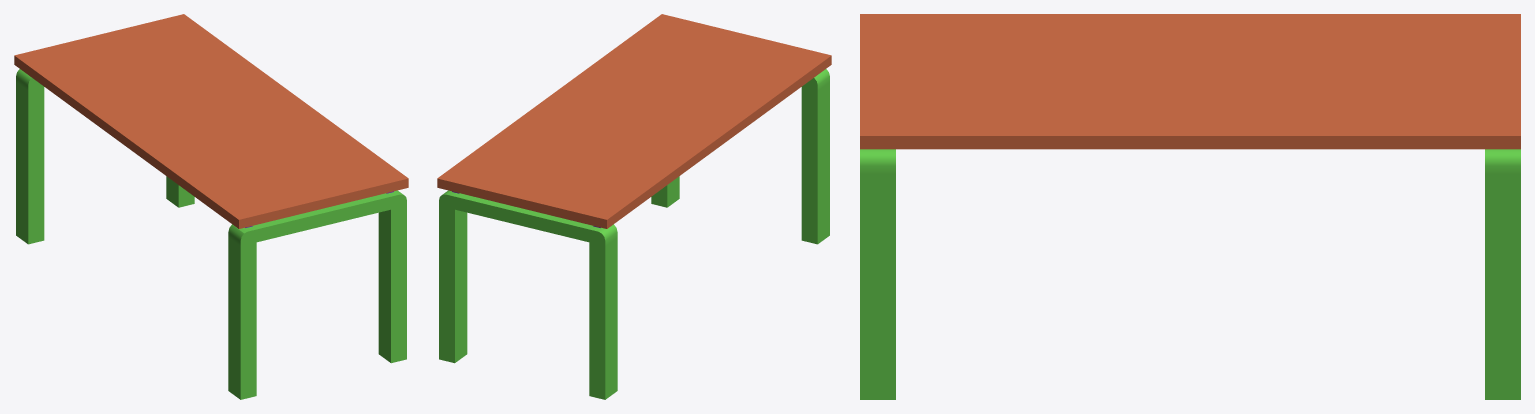
The model's file is TableA.fbx.
3 views of the same model, side by side, from view 1: azimuth 30°, elevation 25°; view 2: azimuth 150°, elevation 25°; view 3: azimuth 270°, elevation 25° (orthographic). The views are drawn at different scales.
Visible parts, largest first — view 1: Cube.001; view 2: Cube.001; view 3: Cube.001.
Part boxes in pixels (bbox=[...]): Cube.001: bbox=[14, 14, 408, 399]; Cube.001: bbox=[437, 14, 831, 399]; Cube.001: bbox=[860, 14, 1520, 399].
Size of the model in its own units: 96 by 97.5 by 220.
